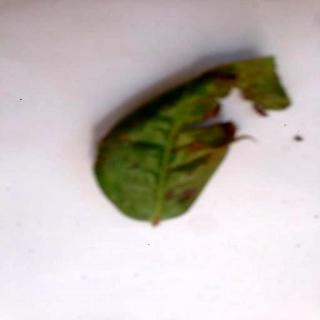Algal Leaf: (98, 56, 292, 225)
